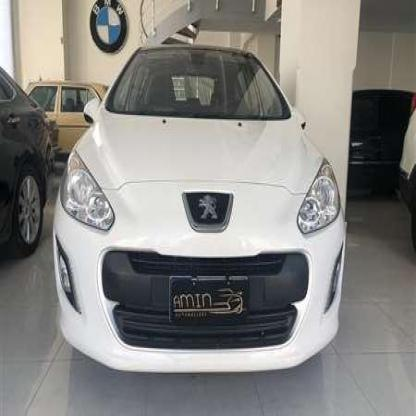Car: (56, 54, 344, 387), (0, 41, 55, 292), (345, 65, 416, 203), (19, 72, 122, 167), (394, 83, 416, 240)
